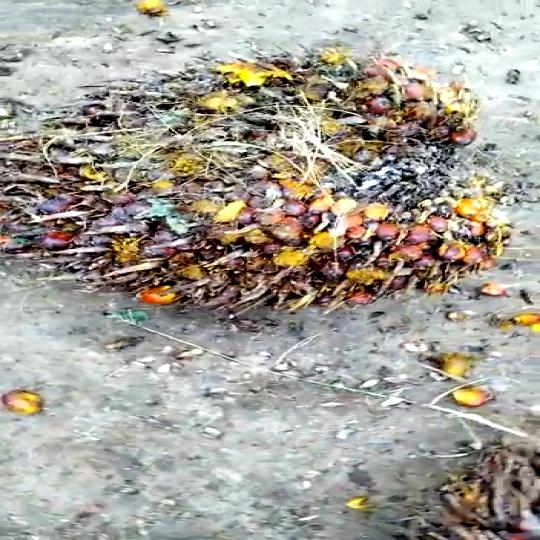masak: (0, 43, 511, 325)
